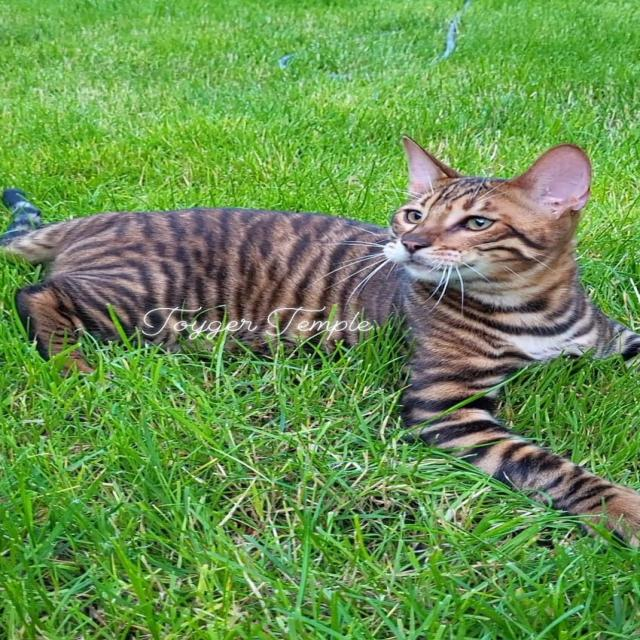Toyger: (0, 132, 640, 544)
